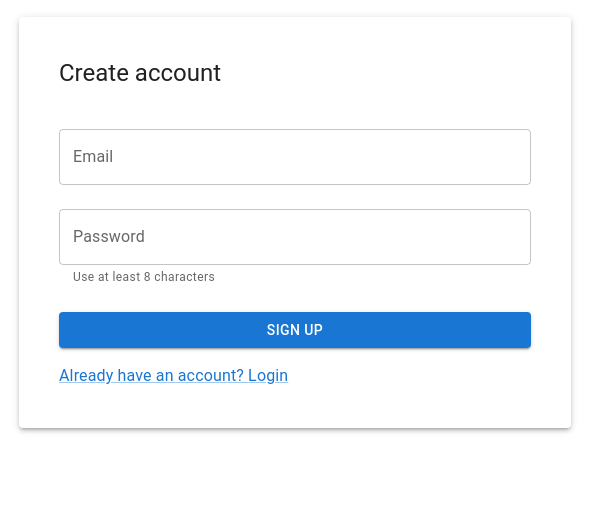
Test case: shows a generic server error for a 500 response
The image size is (591, 514).
In the field labelled "Email": (295, 157) [59, 129, 531, 185], type "new@example.com"
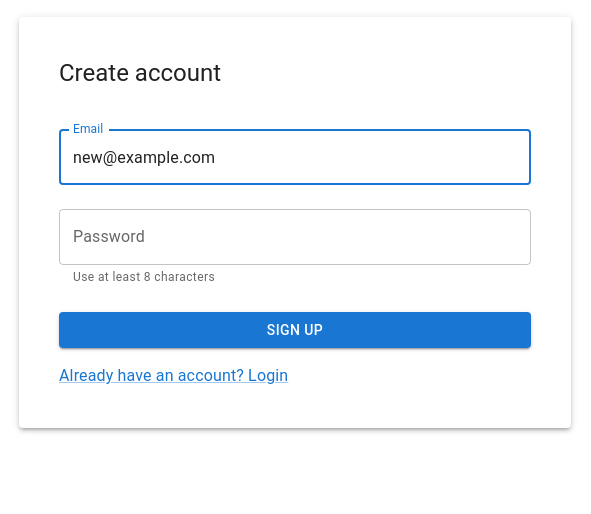
In the password field labelled "Password": (295, 237) [59, 209, 531, 265], type "password123"
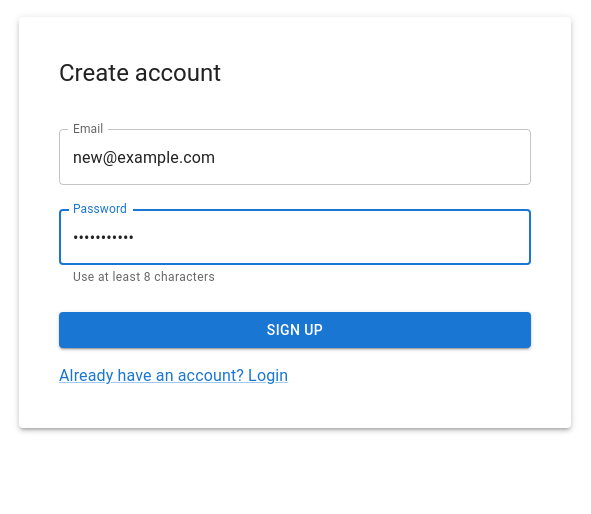
Click the button "Sign up": (295, 330) [59, 312, 531, 348]
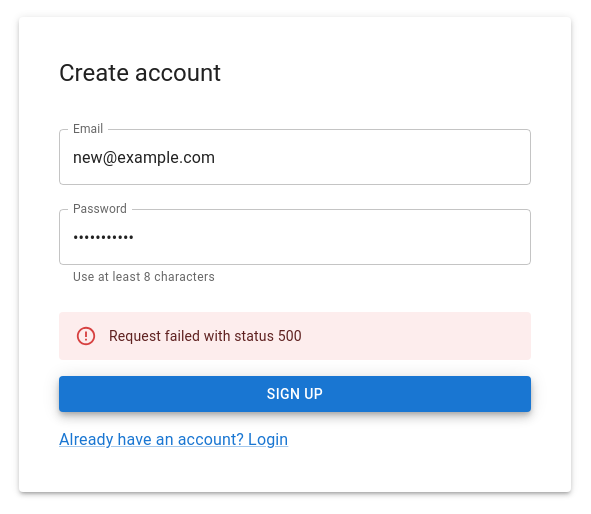
Result: the text "Request failed with status 500" is shown at [109, 328, 302, 344]
